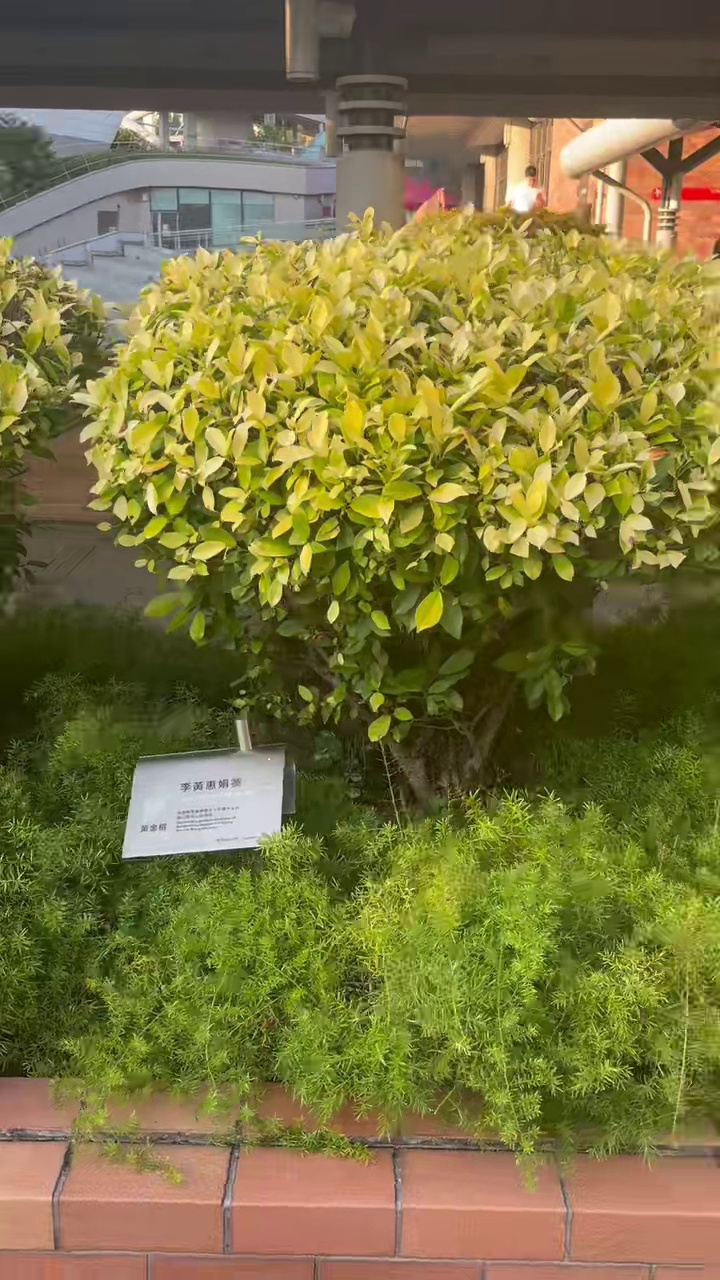Golden-leaves Fig: (78, 211, 719, 797)
